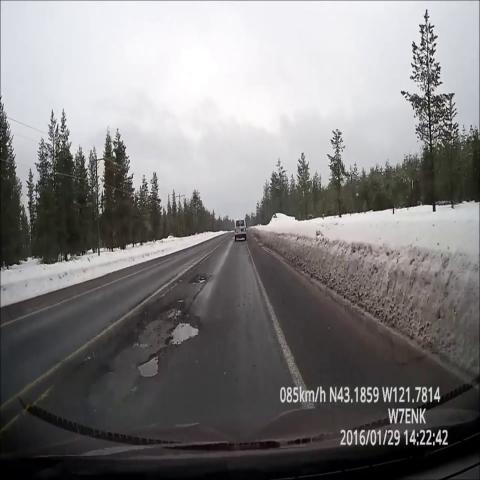pothole: (109, 296, 201, 398), (185, 260, 214, 294)
